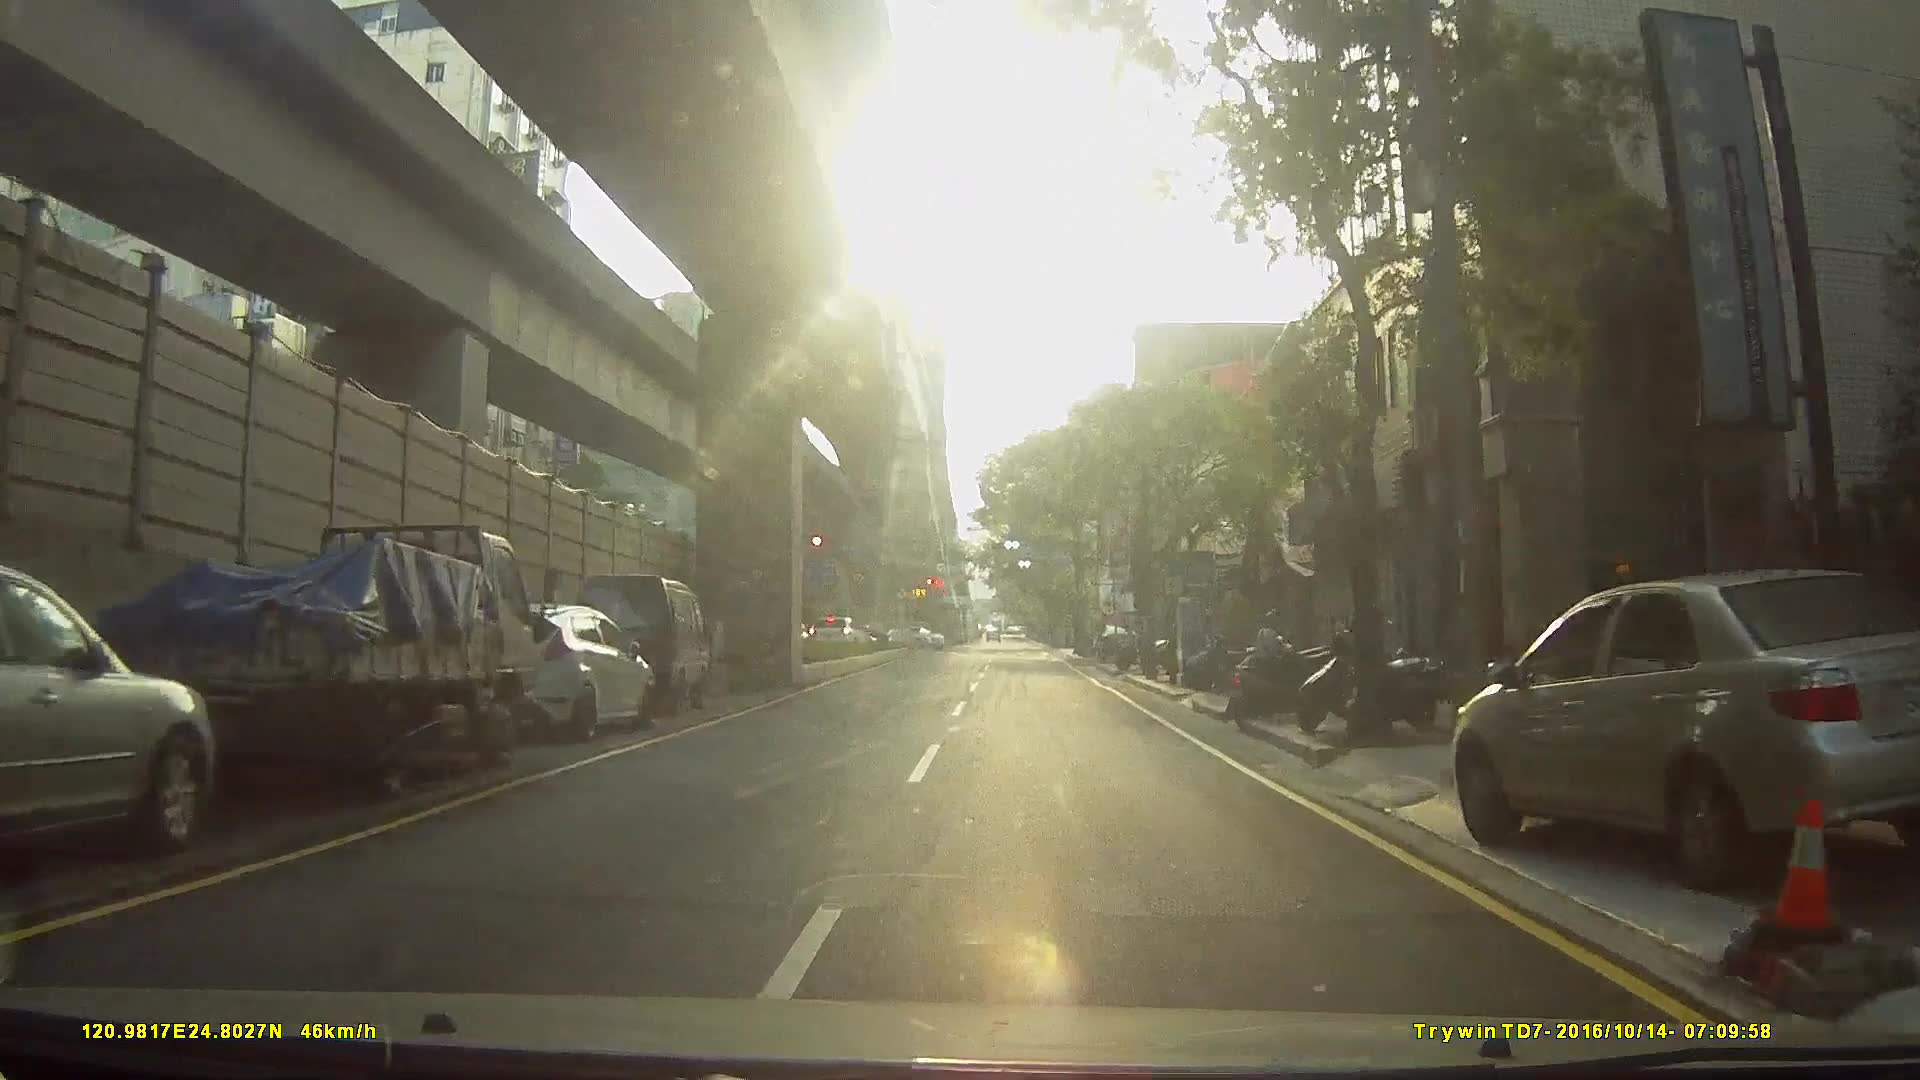rider: (1226, 610, 1331, 733)
vehicle: (1441, 560, 1920, 907), (62, 519, 575, 806), (1, 554, 228, 881), (447, 598, 652, 746), (561, 571, 707, 717), (802, 615, 864, 655), (1092, 623, 1138, 661), (883, 623, 944, 650)
